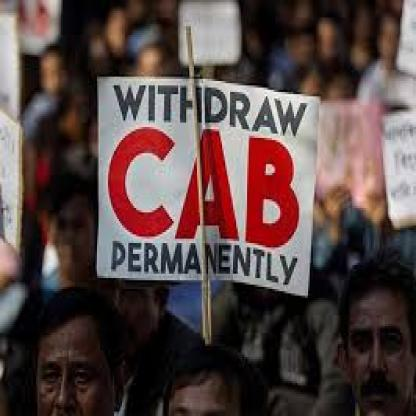BANNER: (99, 77, 319, 296)
